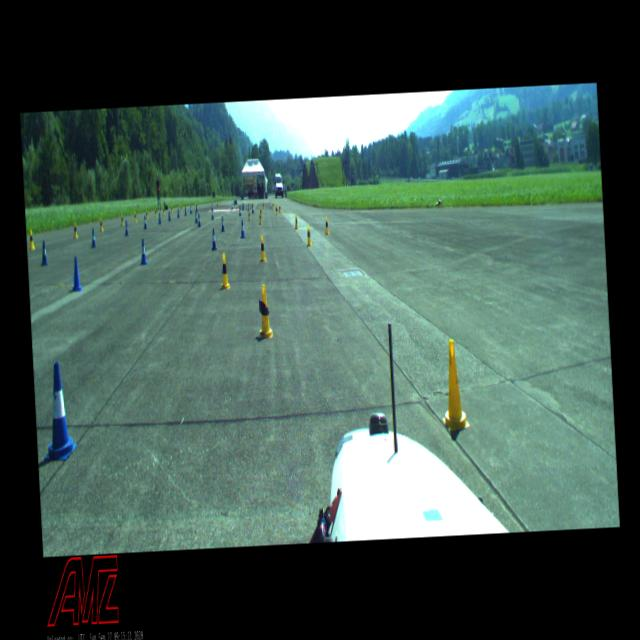blue_cone: (40, 361, 78, 462), (71, 256, 82, 291), (139, 238, 148, 264), (40, 240, 48, 266), (211, 228, 217, 250), (91, 227, 97, 247), (240, 220, 245, 238), (221, 216, 225, 232), (194, 211, 198, 224), (125, 220, 128, 237), (197, 214, 201, 226), (143, 216, 147, 228), (238, 206, 242, 217), (158, 213, 161, 224), (177, 207, 180, 218), (168, 210, 171, 220), (184, 207, 187, 216), (212, 209, 214, 220), (252, 204, 254, 213), (190, 205, 192, 214), (231, 202, 233, 210), (242, 203, 244, 211)
yellow_cone: (438, 338, 469, 431), (257, 284, 273, 338), (220, 253, 231, 290), (259, 235, 266, 262), (306, 224, 312, 247), (29, 230, 35, 250), (324, 217, 330, 234), (294, 213, 299, 230), (74, 222, 78, 238), (100, 218, 104, 232), (258, 213, 262, 225), (134, 212, 138, 222), (121, 213, 124, 226), (248, 210, 251, 222), (260, 207, 263, 218), (233, 202, 236, 209), (276, 205, 278, 215), (146, 210, 148, 220), (279, 204, 281, 213), (163, 207, 165, 216), (155, 208, 157, 217), (171, 204, 173, 213), (180, 204, 182, 212), (272, 202, 274, 209), (216, 202, 218, 209), (262, 202, 264, 209)
